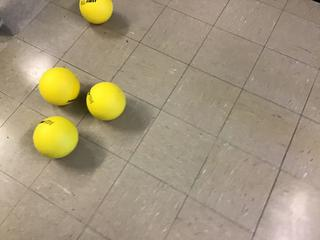power_cell: (31, 114, 82, 162), (38, 66, 82, 109), (83, 80, 129, 120), (76, 1, 115, 26)
